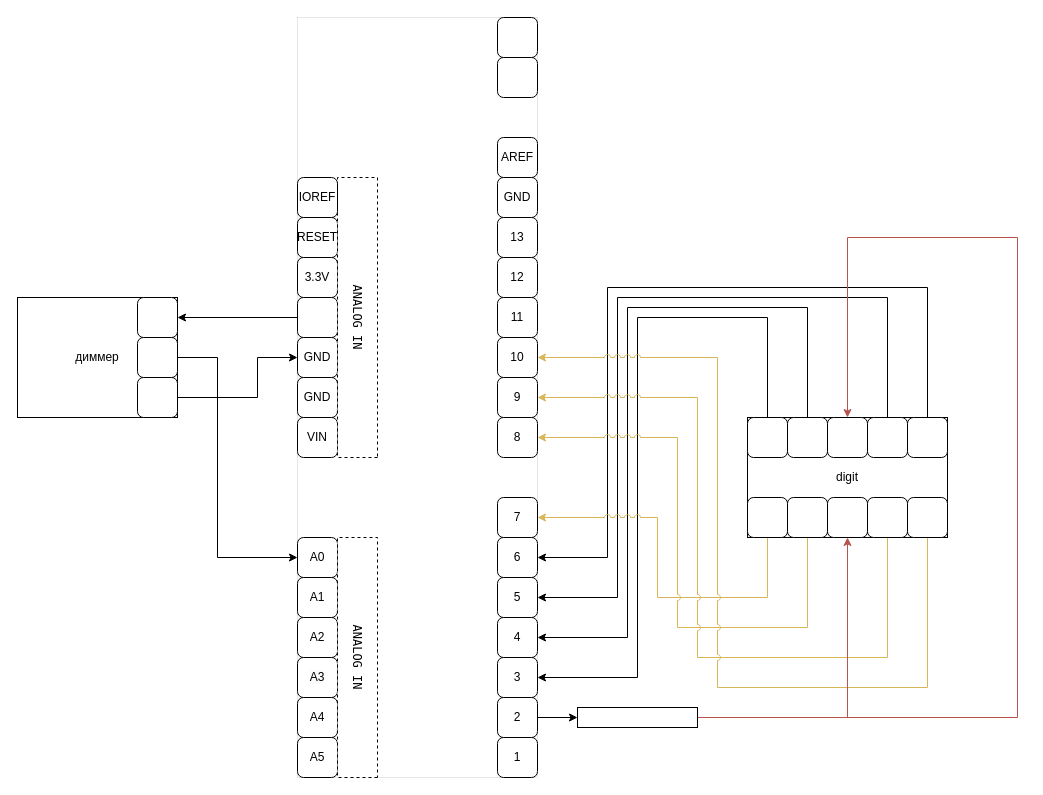
Image size: 1043x795. Some labels were removed from this diagram. The centre of each missing label's shape, as x and y in pixels:
5V: point 317,317
резистор: point 637,717
